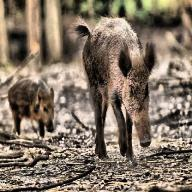boar: (74, 4, 168, 168), (5, 62, 66, 142)
